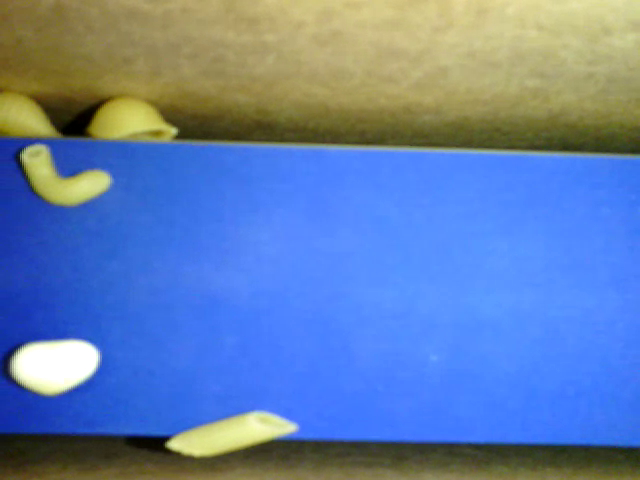elbow: (21, 143, 114, 207)
penne: (166, 409, 300, 460)
shell: (89, 95, 175, 138), (1, 89, 69, 138)
